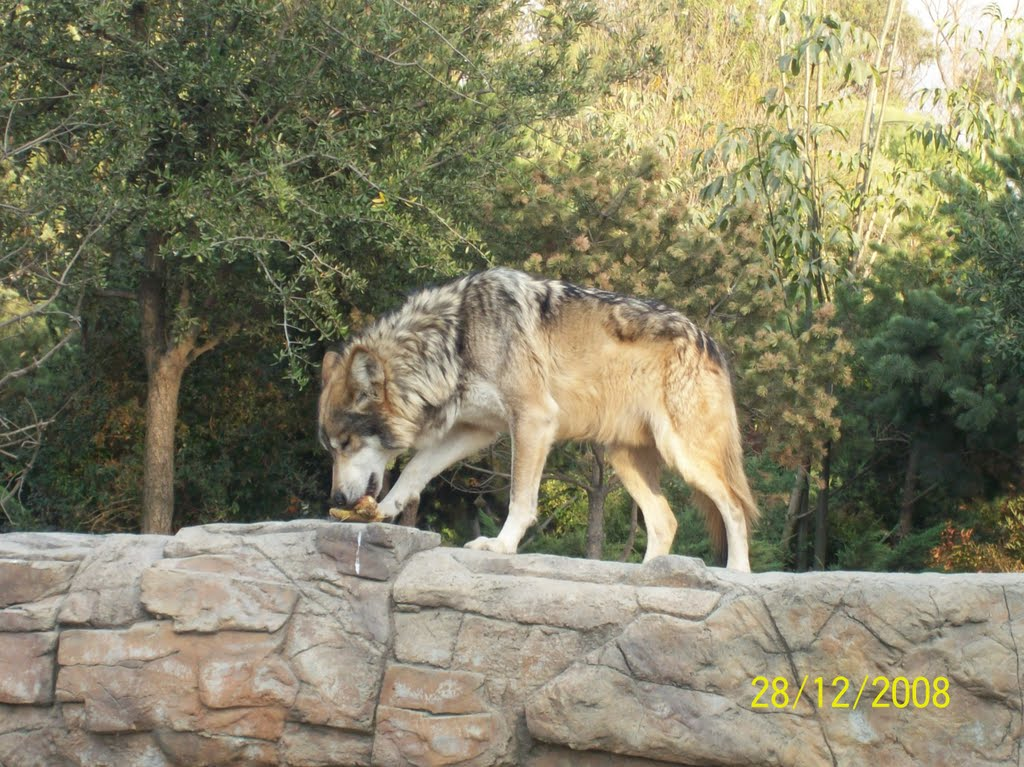Lobo: (252, 252, 800, 559)
